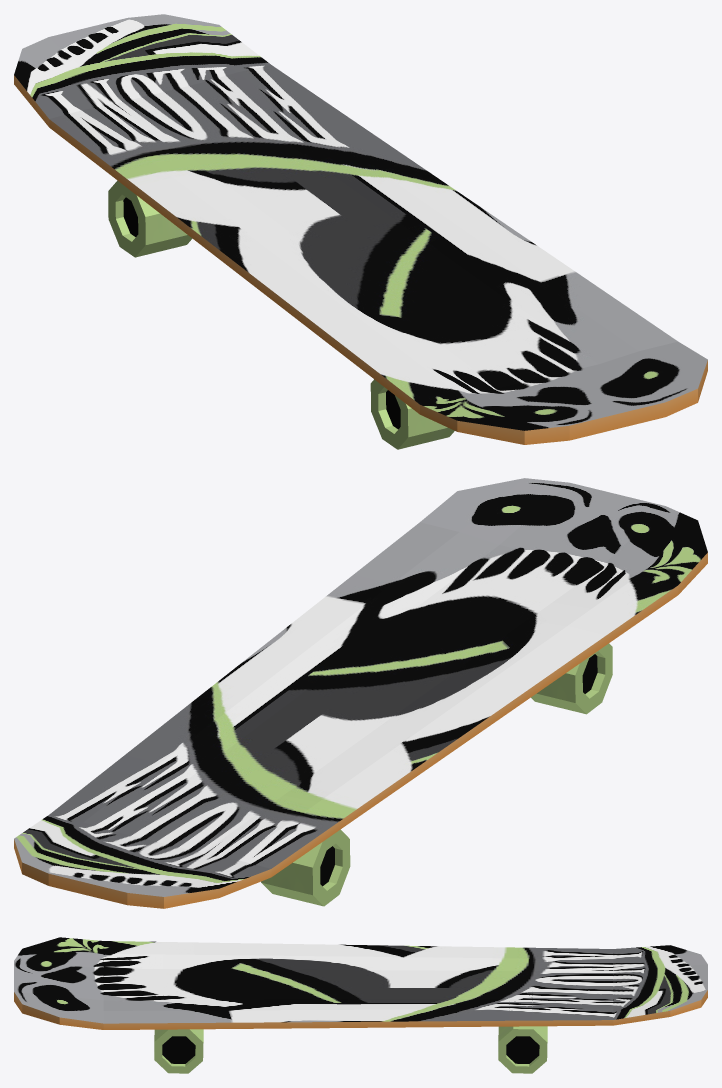
The model's file is Skateboard_Felon01.fbx.
3 renders of one model, top to bottom at view 1: azimuth 30°, elevation 25°; view 2: azimuth 150°, elevation 25°; view 3: azimuth 270°, elevation 25°, orthographic. The views are drawn at different scales.
Parts seen in each view (by area): view 1: Skateboard_Felon01; view 2: Skateboard_Felon01; view 3: Skateboard_Felon01.
Boxes of the visible parts, bbox=[...] form: Skateboard_Felon01: bbox=[14, 14, 707, 449]; Skateboard_Felon01: bbox=[14, 478, 707, 908]; Skateboard_Felon01: bbox=[14, 937, 707, 1073].
Bounding box in the file's own units: 40.39 × 14.58 × 143.
